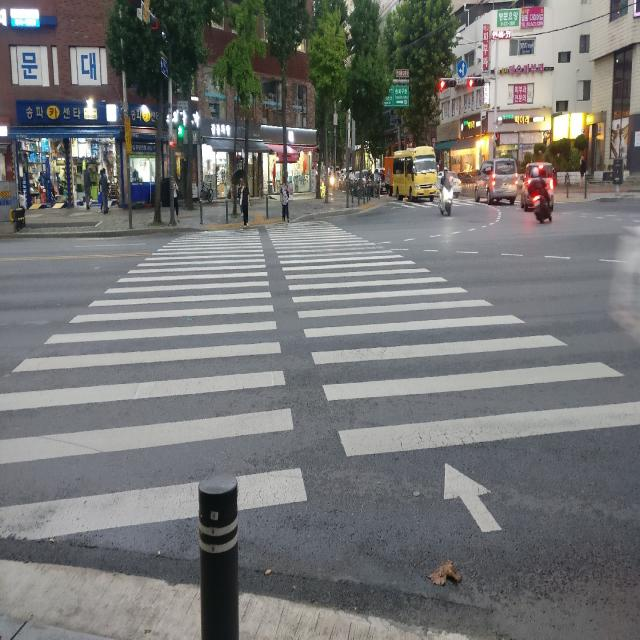초록불: (177, 119, 183, 146)
횡단보도: (0, 219, 640, 542)
